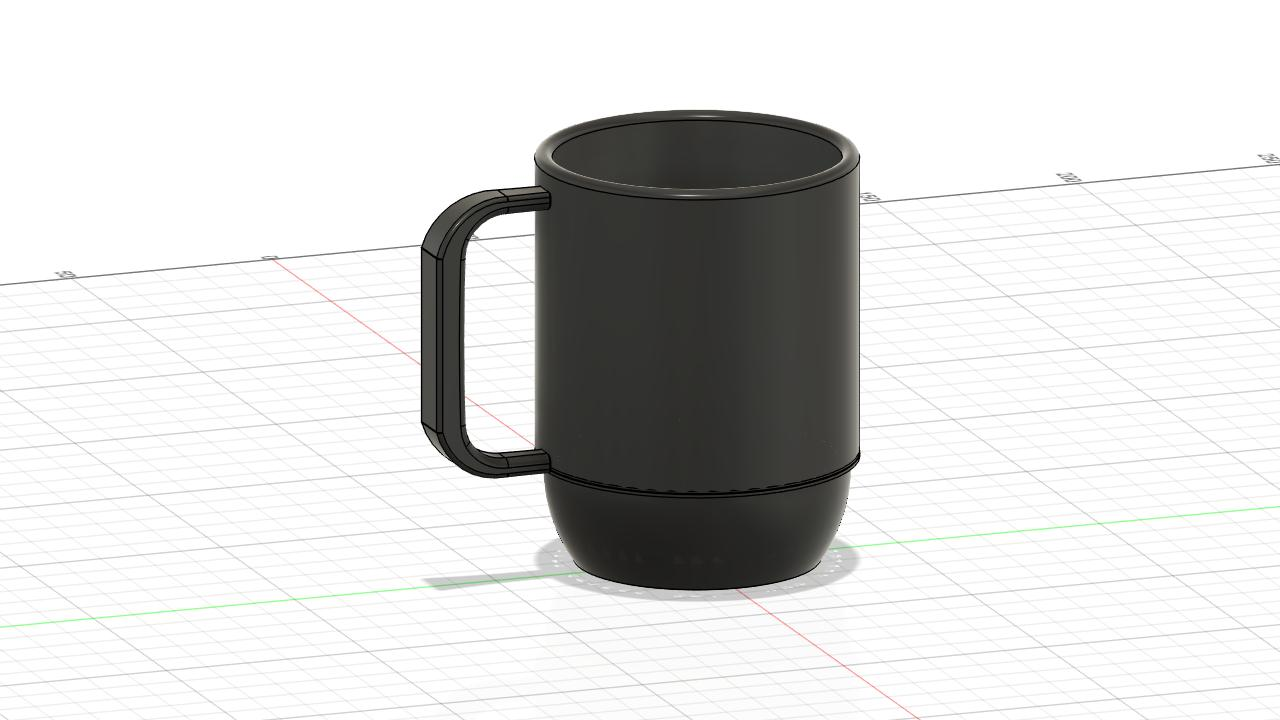mug-real100-3d100: (421, 110, 860, 589)
